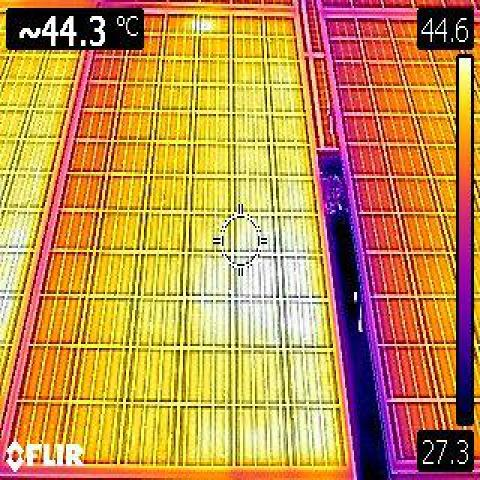fault: (269, 239, 323, 354), (0, 216, 24, 332), (191, 15, 214, 36)
